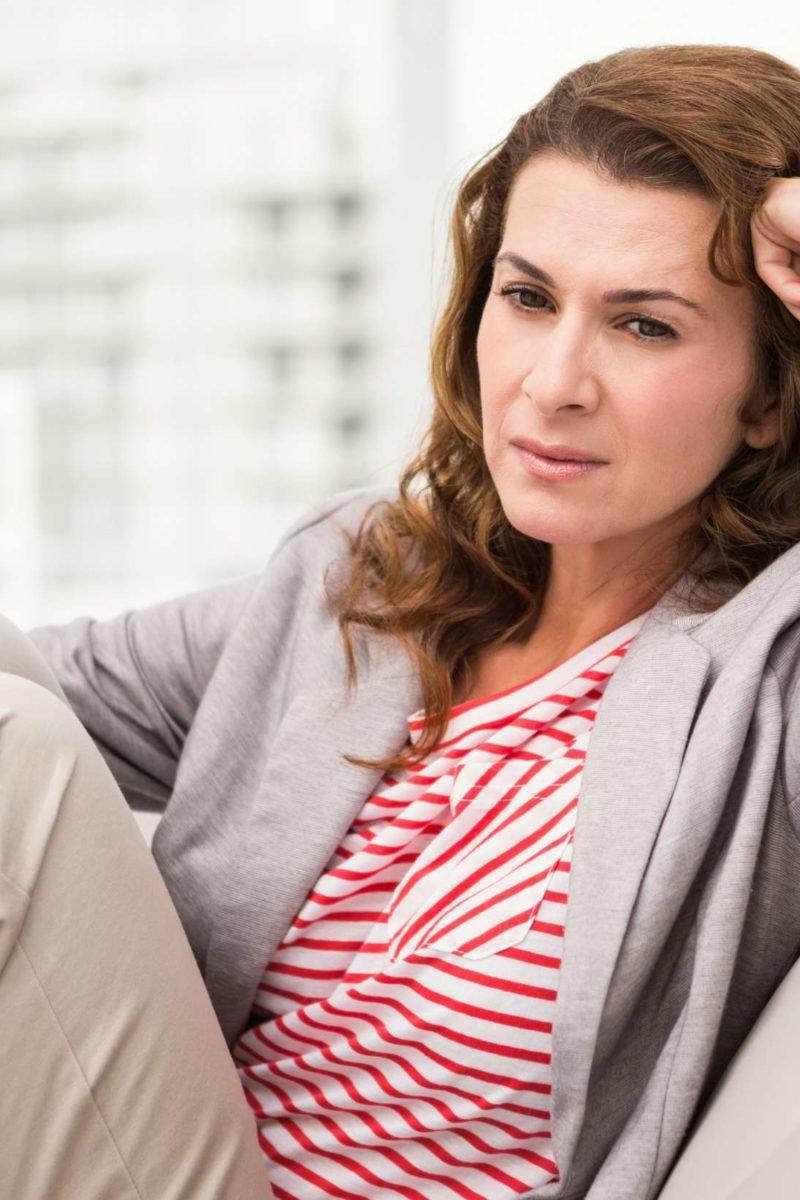Sober: (481, 193, 725, 536)
